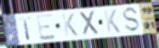E: (35, 13, 58, 42)
K: (61, 12, 80, 38), (103, 8, 122, 34)
S: (122, 6, 142, 34)
T: (17, 16, 34, 41)
X: (78, 9, 101, 38)
